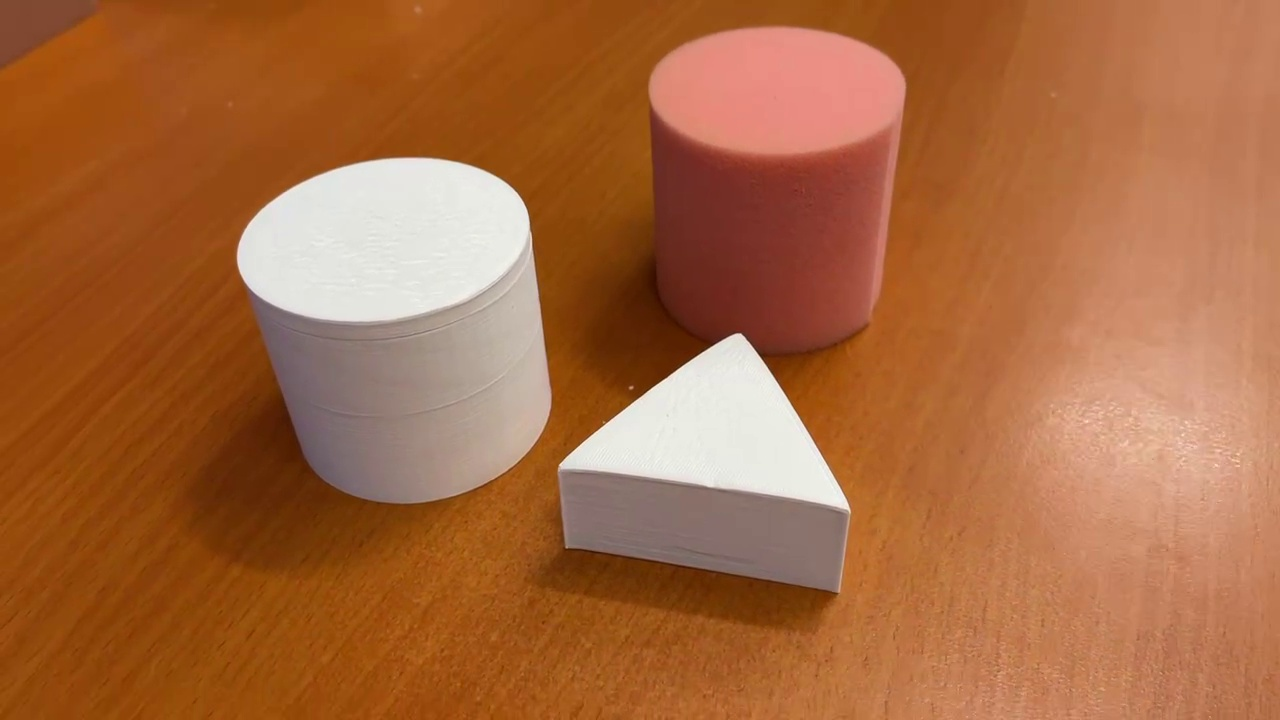Cylinder: (231, 145, 559, 507), (634, 16, 911, 354)
Triangle_short: (551, 327, 856, 602)
